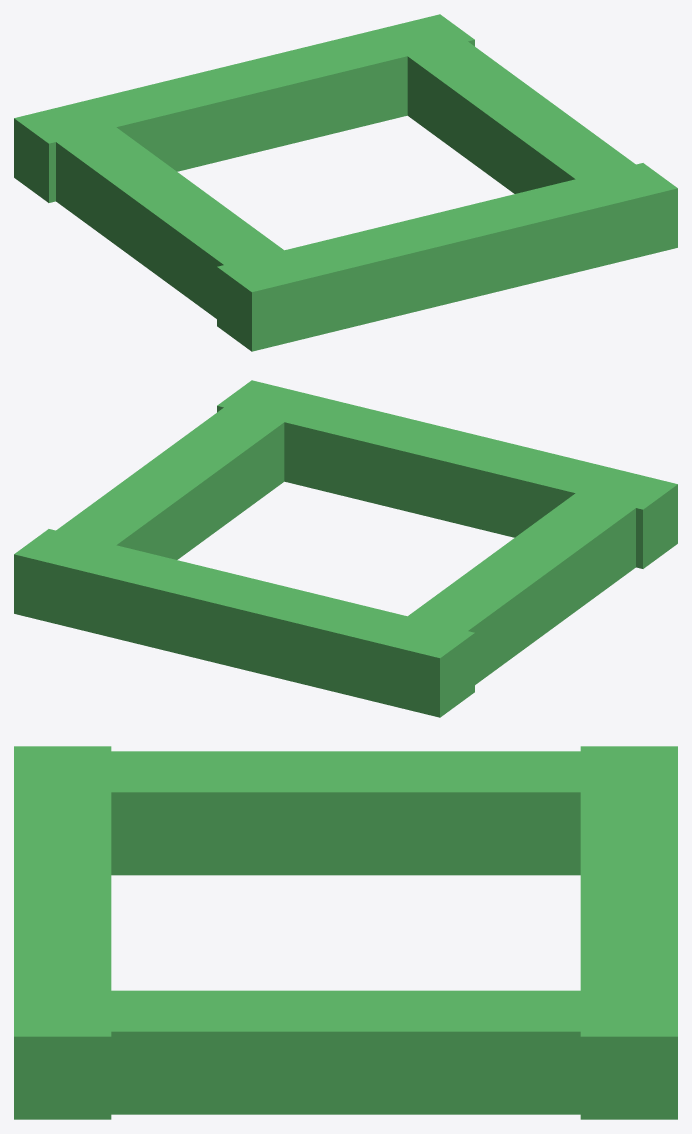
File: fire_grate_floor_collision.glb
3 views of the same model, one above another, from view 1: azimuth 30°, elevation 25°; view 2: azimuth 150°, elevation 25°; view 3: azimuth 270°, elevation 25° (orthographic). The views are drawn at different scales.
Parts seen in each view (by area): view 1: fire_grate_floor-col-s, fire_grate_floor-col-n, fire_grate_floor-col-w, fire_grate_floor-col-e; view 2: fire_grate_floor-col-n, fire_grate_floor-col-s, fire_grate_floor-col-w, fire_grate_floor-col-e; view 3: fire_grate_floor-col-e, fire_grate_floor-col-w, fire_grate_floor-col-n, fire_grate_floor-col-s.
Boxes of the visible parts, x1=… form: fire_grate_floor-col-s: x1=217, y1=163, x2=677, y2=351; fire_grate_floor-col-n: x1=14, y1=14, x2=474, y2=202; fire_grate_floor-col-w: x1=56, y1=127, x2=283, y2=318; fire_grate_floor-col-e: x1=407, y1=41, x2=635, y2=193; fire_grate_floor-col-n: x1=14, y1=529, x2=474, y2=717; fire_grate_floor-col-s: x1=217, y1=380, x2=677, y2=568; fire_grate_floor-col-w: x1=408, y1=493, x2=635, y2=684; fire_grate_floor-col-e: x1=56, y1=407, x2=284, y2=559; fire_grate_floor-col-e: x1=111, y1=990, x2=580, y2=1114; fire_grate_floor-col-w: x1=111, y1=751, x2=580, y2=875; fire_grate_floor-col-n: x1=580, y1=746, x2=677, y2=1119; fire_grate_floor-col-s: x1=14, y1=746, x2=111, y2=1119.
Size of the model in its own units: 2.4 by 0.32 by 2.32.
